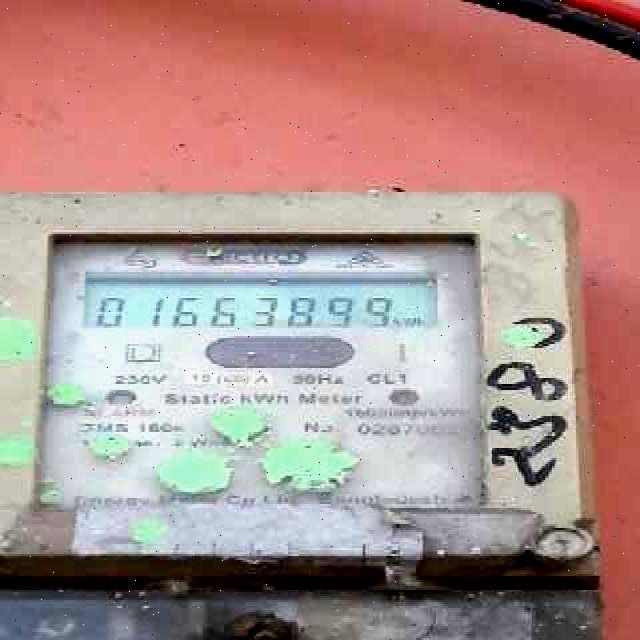LCD: (81, 269, 450, 334)
